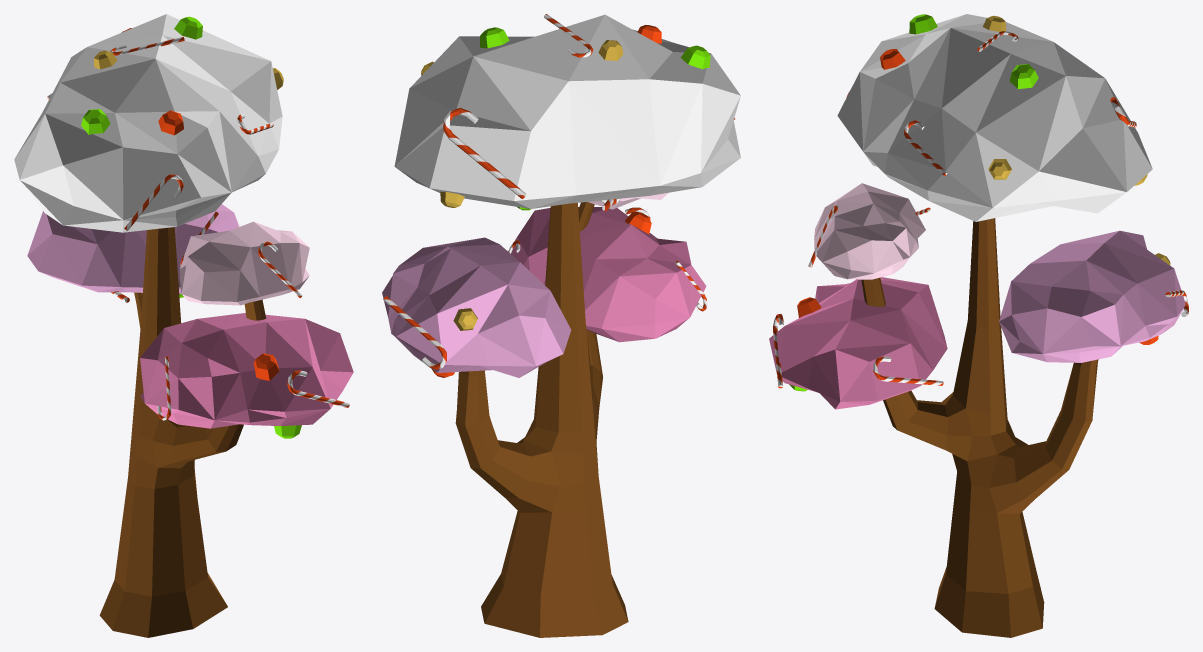
Rendered from Tree3.fbx.
3 renders of one model, left to right at view 1: azimuth 30°, elevation 25°; view 2: azimuth 150°, elevation 25°; view 3: azimuth 270°, elevation 25°, orthographic. The views are drawn at different scales.
Visible parts, largest first — view 1: Tree_4; view 2: Tree_4; view 3: Tree_4.
Boxes of the visible parts, x1,y1,x2,y2 form: Tree_4: [14, 14, 353, 637]; Tree_4: [382, 14, 740, 637]; Tree_4: [769, 14, 1188, 637].
Bounding box in the file's own units: 16.45 × 33.86 × 22.71.
Materials: 1 (1 with a texture image).
